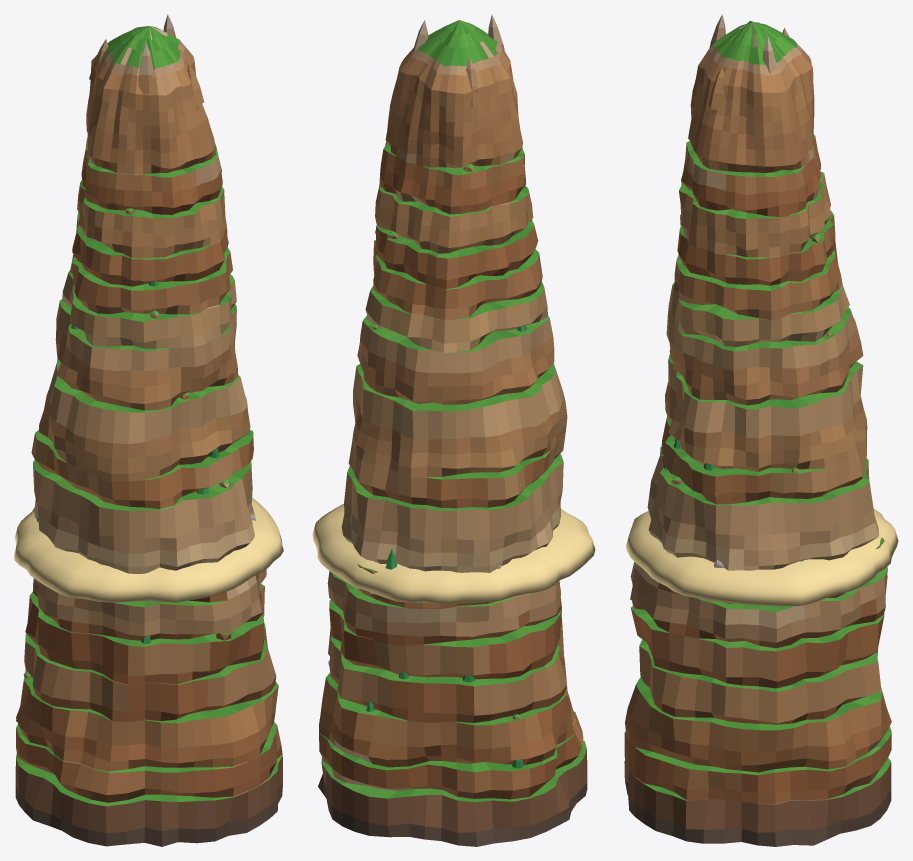
Rendered from props.glb.
3 renders of one model, left to right at view 1: azimuth 30°, elevation 25°; view 2: azimuth 150°, elevation 25°; view 3: azimuth 270°, elevation 25°, orthographic.
Parts seen in each view (by area): view 1: spire, island; view 2: spire, island; view 3: spire, island.
Boxes of the visible parts, box(x1,y1,x2,y2) form: spire: box(15, 14, 282, 846); island: box(14, 497, 283, 602); spire: box(318, 14, 587, 846); island: box(312, 504, 595, 604); spire: box(624, 14, 891, 846); island: box(626, 509, 898, 606).
Size of the model in its own units: 41.89 by 130 by 41.94.
